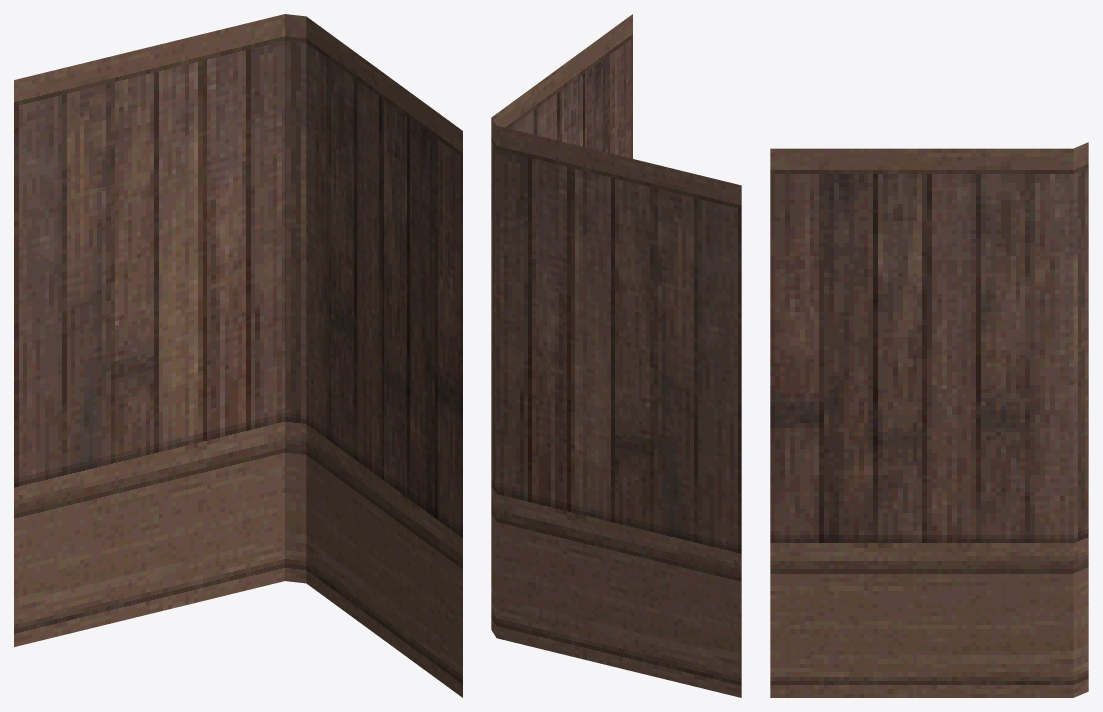
The model's file is wallTurnWood.glb.
3 views of the same model, side by side, from view 1: azimuth 30°, elevation 25°; view 2: azimuth 150°, elevation 25°; view 3: azimuth 270°, elevation 25° (orthographic). The views are drawn at different scales.
Visible parts, largest first — view 1: wallTurnWood; view 2: wallTurnWood; view 3: wallTurnWood.
Part boxes in pixels (box(x1,y1,x2,y2)): wallTurnWood: box(14, 14, 462, 697); wallTurnWood: box(491, 14, 741, 697); wallTurnWood: box(770, 142, 1088, 697).
Size of the model in its own units: 2.1 by 4 by 2.1.
1 material, 1 textured.
